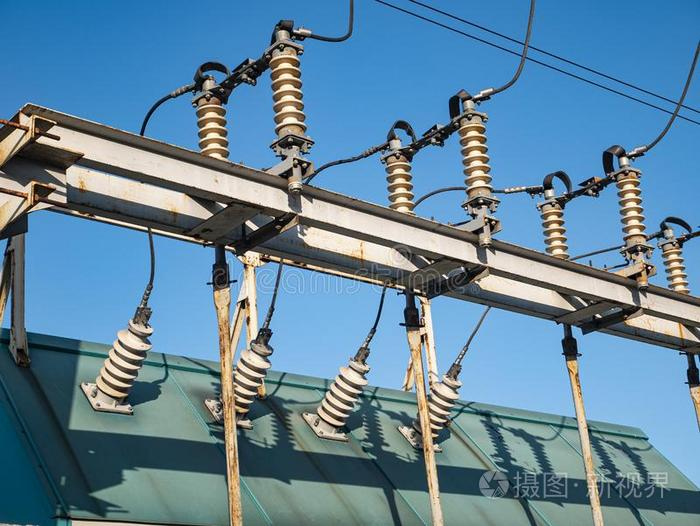insulator: (268, 52, 310, 133), (456, 123, 496, 184), (193, 102, 233, 157), (384, 158, 416, 213), (539, 207, 571, 257), (618, 179, 647, 234), (663, 249, 690, 296)
